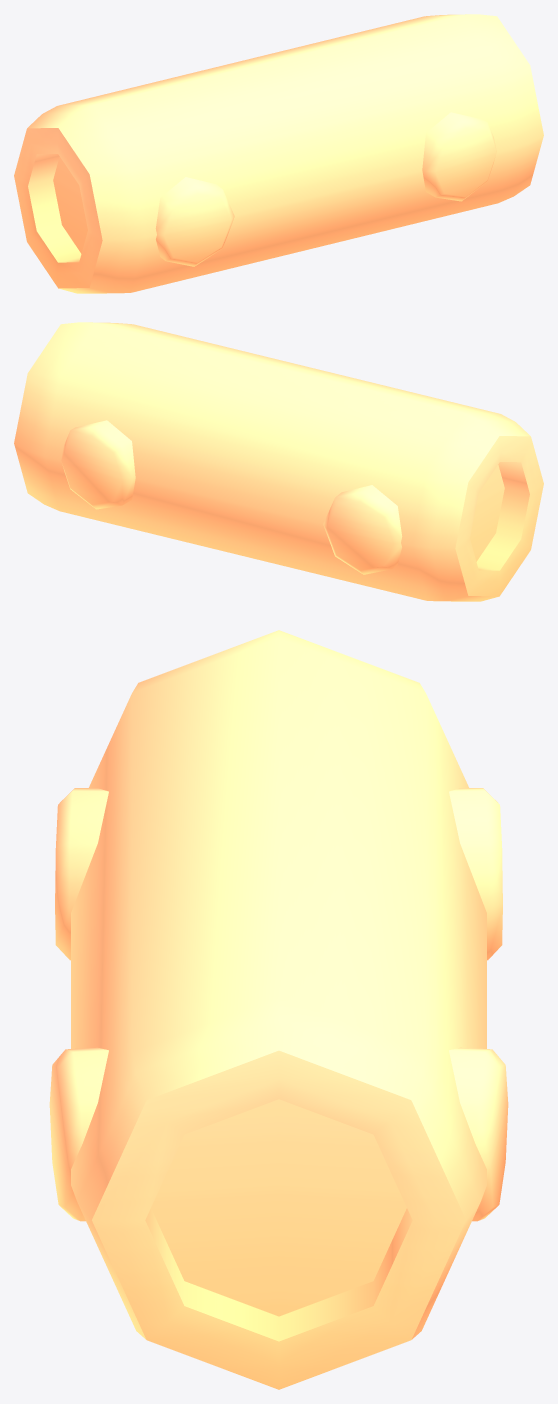
Rendered from wood_guard_063_004.glb.
The picture shows the model from 3 angles, top to bottom: view 1: azimuth 30°, elevation 25°; view 2: azimuth 150°, elevation 25°; view 3: azimuth 270°, elevation 25°; orthographic projection. The views are drawn at different scales.
Visible parts, largest first — view 1: wood_guard_063.004; view 2: wood_guard_063.004; view 3: wood_guard_063.004.
Part boxes in pixels (bbox=[...]): wood_guard_063.004: bbox=[14, 14, 543, 293]; wood_guard_063.004: bbox=[14, 322, 543, 601]; wood_guard_063.004: bbox=[49, 630, 508, 1389].
Size of the model in its own units: 4.9 by 2 by 2.21.
1 material, 1 textured.
